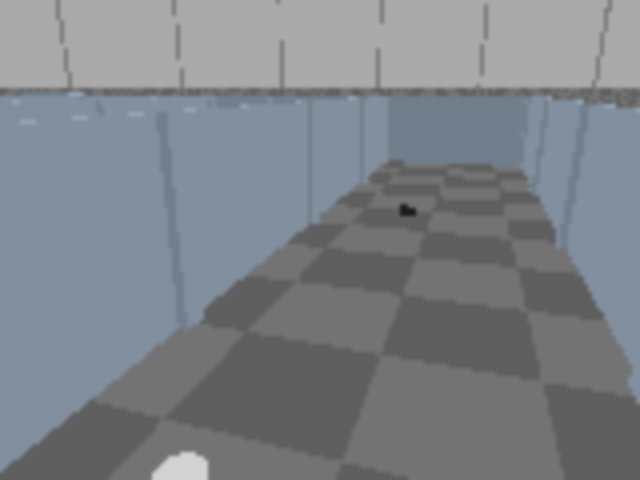puck: (152, 456, 211, 478)
